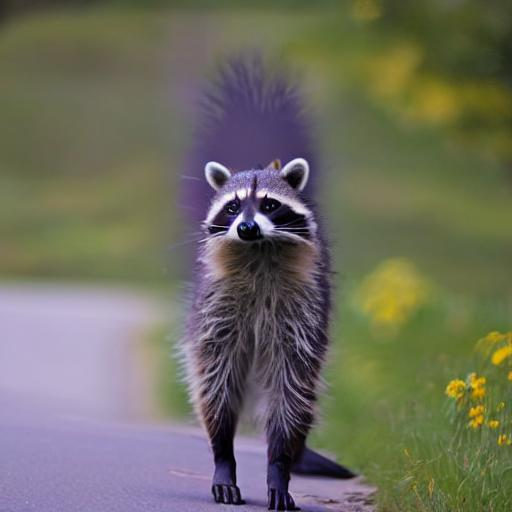raccoon: (185, 153, 341, 434)
